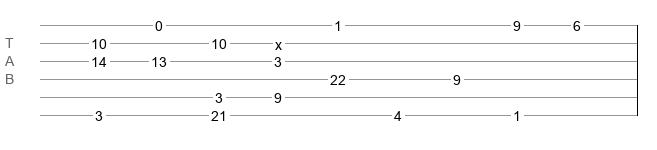0: (155, 18, 163, 28)
1: (334, 18, 342, 28), (513, 108, 521, 118)
10: (91, 36, 107, 46), (211, 36, 227, 46)
13: (151, 54, 167, 64)
14: (91, 54, 107, 64)
21: (211, 108, 227, 118)
22: (330, 72, 346, 82)
3: (95, 108, 103, 118), (215, 90, 223, 100), (274, 54, 282, 64)
4: (394, 108, 402, 118)
6: (573, 18, 581, 28)
9: (274, 90, 282, 100), (453, 72, 461, 82), (513, 18, 521, 28)
x: (275, 37, 282, 45)
